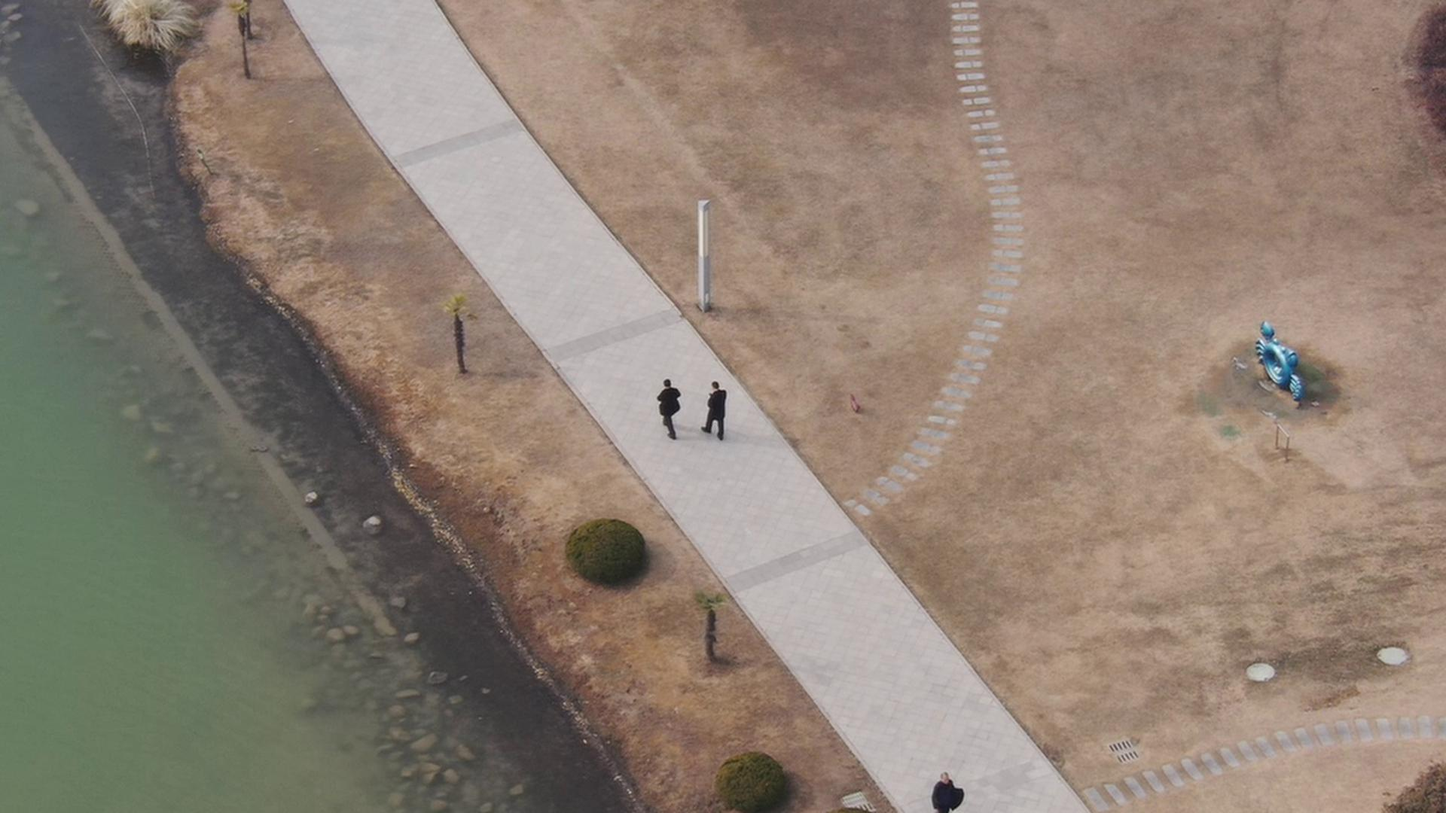human: (691, 365, 728, 439), (923, 761, 969, 813), (645, 373, 682, 436)
